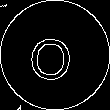O_N: (32, 28, 78, 82)
